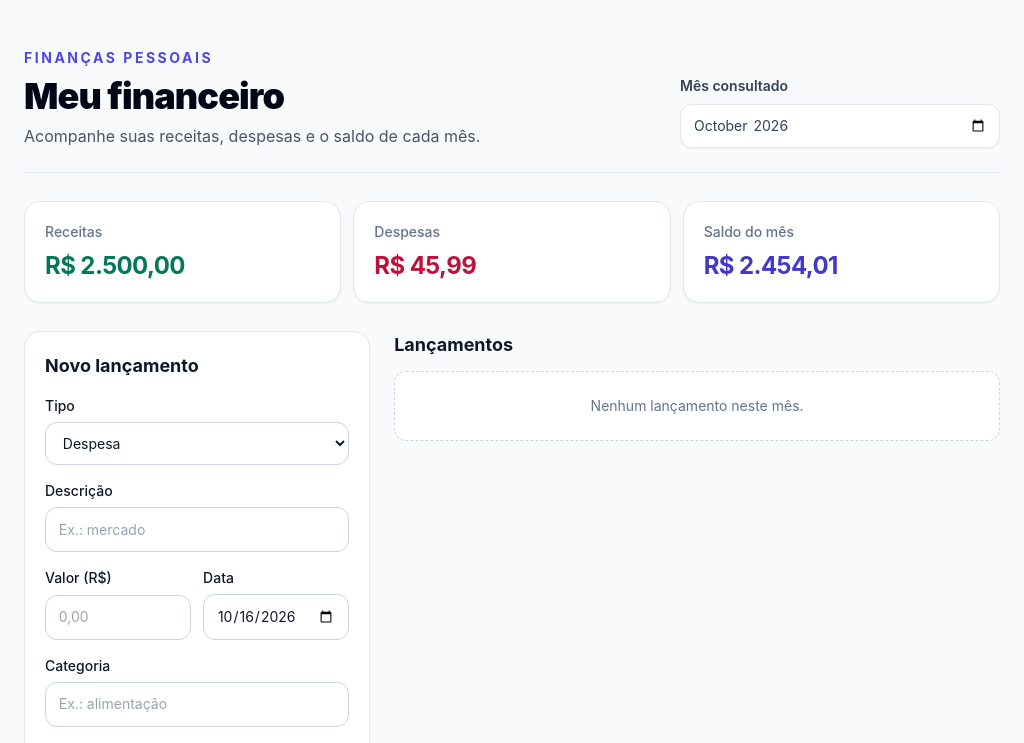
Scenario: gerenciador financeiro › confirma um lançamento informado para outro mês sem misturá-lo ao resumo atual
The width and height of the screenshot is (1024, 743).
Check: the text "Nenhum lançamento neste mês." is shown, box left=394, top=371, right=1000, bottom=441
In the field labelled "Descrição": (197, 530) left=45, top=507, right=349, bottom=552, type "Despesa antiga"
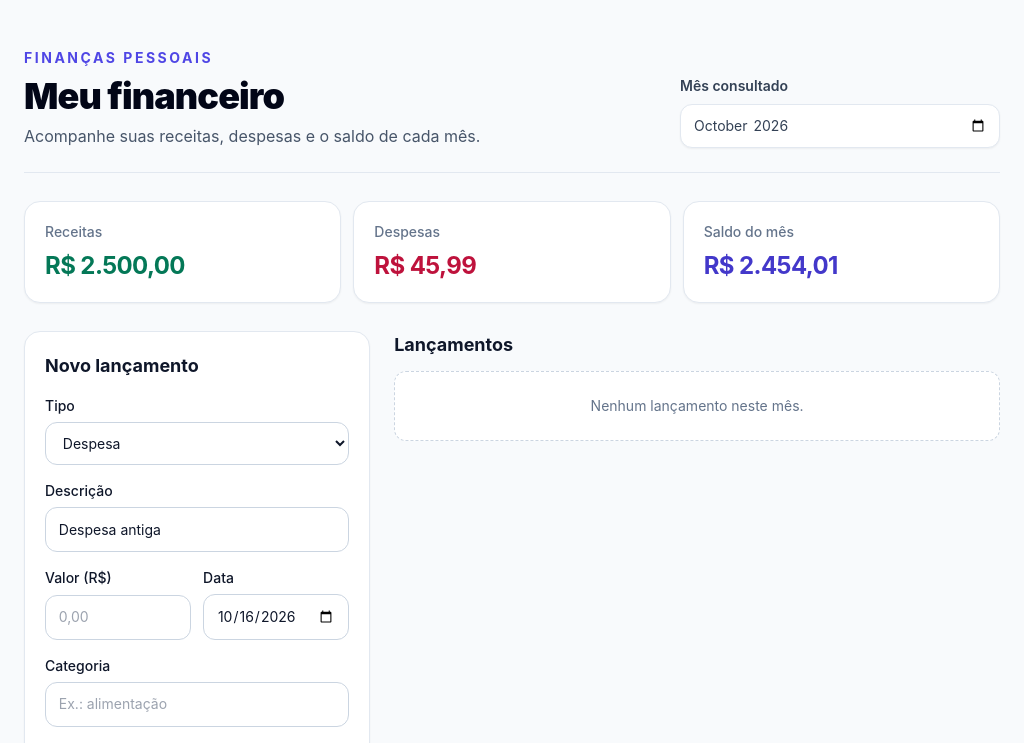
In the field labelled "Valor (R$)": (118, 618) left=45, top=595, right=191, bottom=640, type "10,00"
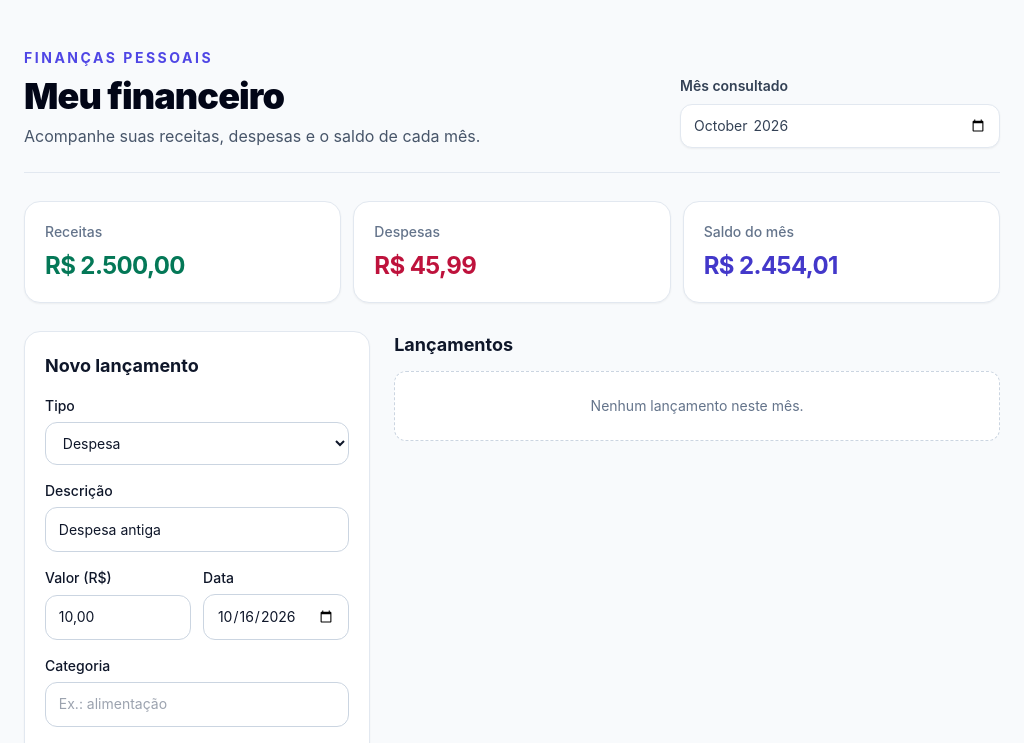
In the field labelled "Categoria": (197, 704) left=45, top=682, right=349, bottom=726, type "Casa"
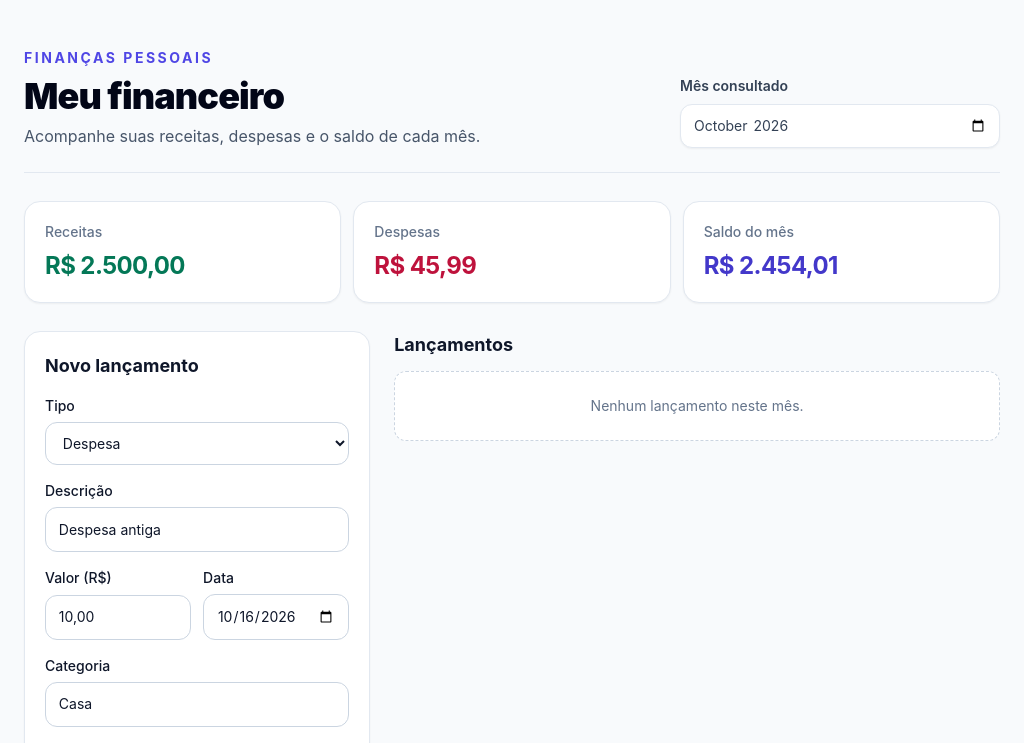
In the date field labelled "Data": (276, 617) left=203, top=594, right=349, bottom=640, type "2020-01-10"
(page scrolled)
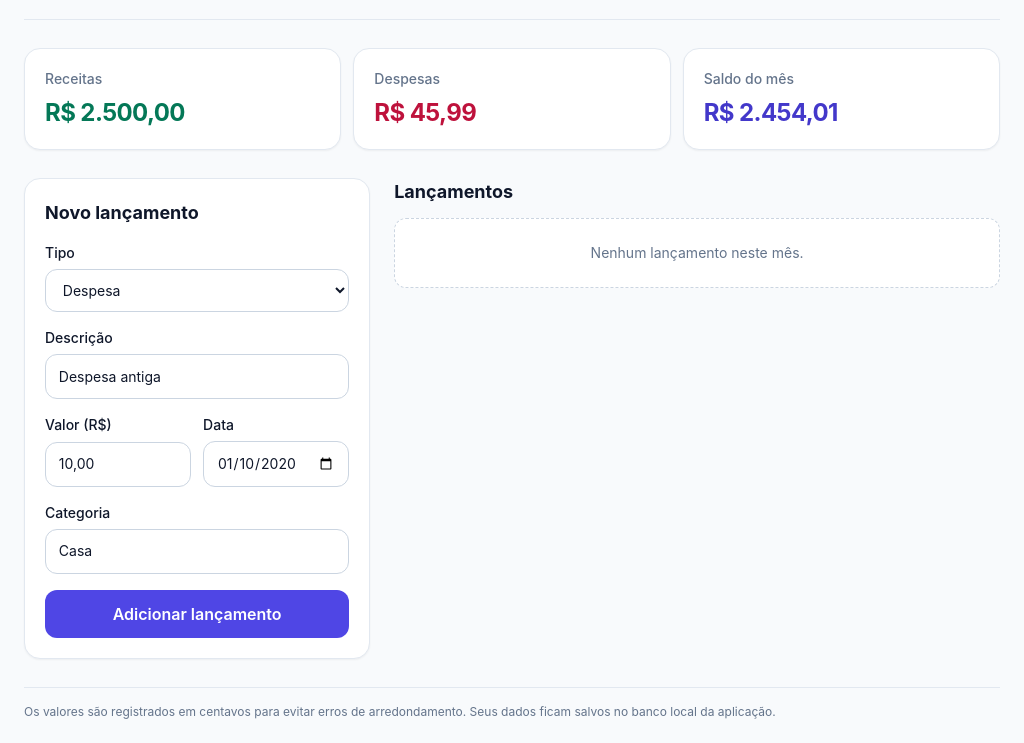
Click the button "Adicionar lançamento": (197, 614) left=45, top=590, right=349, bottom=638
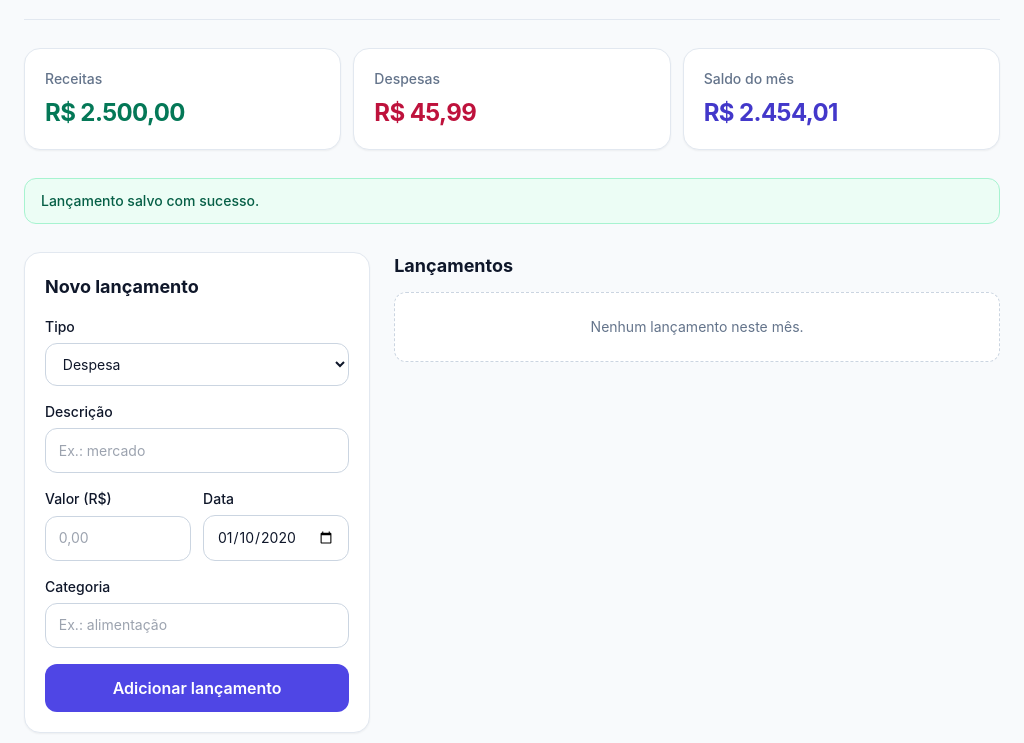
Check: the text "Lançamento salvo com sucesso." is shown, box left=24, top=178, right=1000, bottom=224
